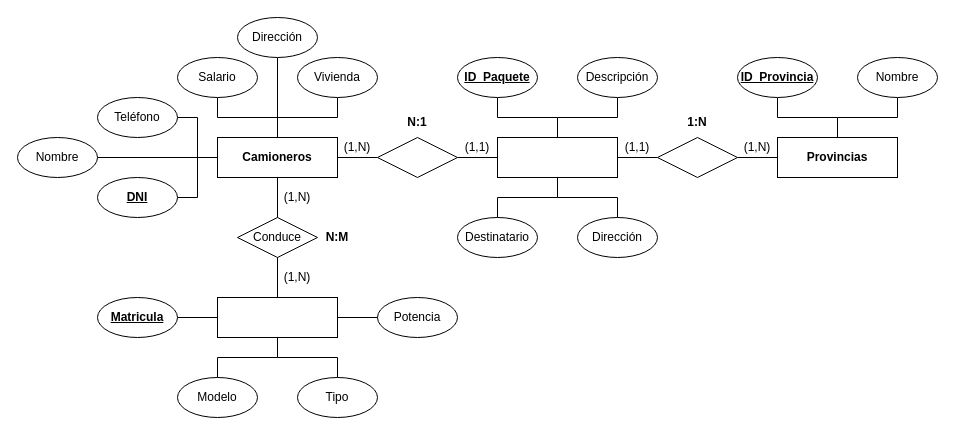
Image size: 955x435. Some labels were removed from this diagram. Here are the shapes that lost their labels. From the top down, the centre of each, then its label:
At (417,157): "Entrega".
At (557,157): "Paquetes".
At (697,157): "van a".
At (277,317): "Camiones".
